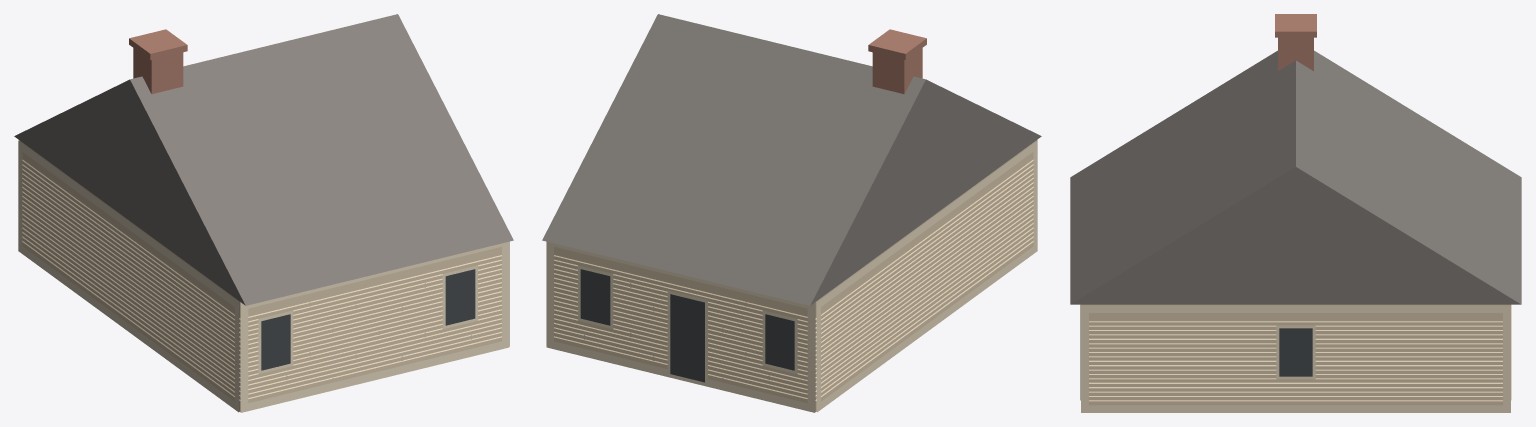
File: recon_1835_north_d5_026__inferred_1835.glb
3 renders of one model, left to right at view 1: azimuth 30°, elevation 25°; view 2: azimuth 150°, elevation 25°; view 3: azimuth 270°, elevation 25°, orthographic. The views are drawn at different scales.
Parts seen in each view (by area): view 1: recon_1835_north_d5_026__inferred_1835; view 2: recon_1835_north_d5_026__inferred_1835; view 3: recon_1835_north_d5_026__inferred_1835.
Part boxes in pixels (bbox=[...]): recon_1835_north_d5_026__inferred_1835: bbox=[14, 14, 513, 412]; recon_1835_north_d5_026__inferred_1835: bbox=[542, 14, 1041, 412]; recon_1835_north_d5_026__inferred_1835: bbox=[1070, 14, 1521, 412].
Bounding box in the file's own units: 7.17 × 7.15 × 10.61.
